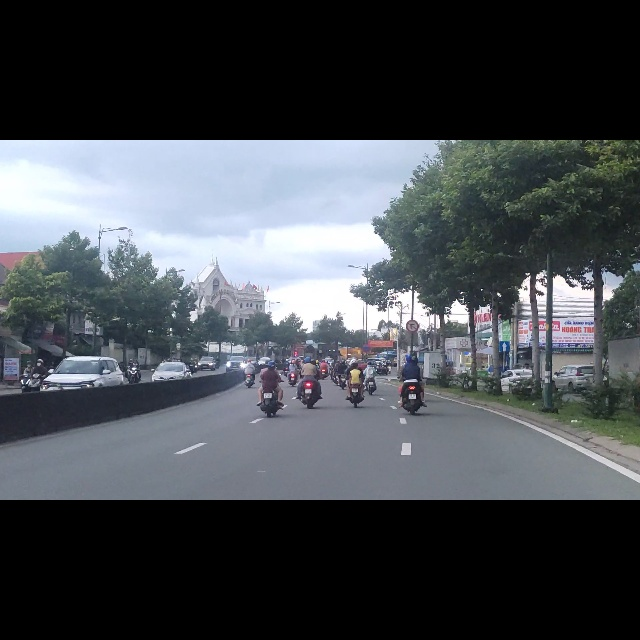bien_cam: (406, 319, 419, 343), (499, 357, 510, 377)
